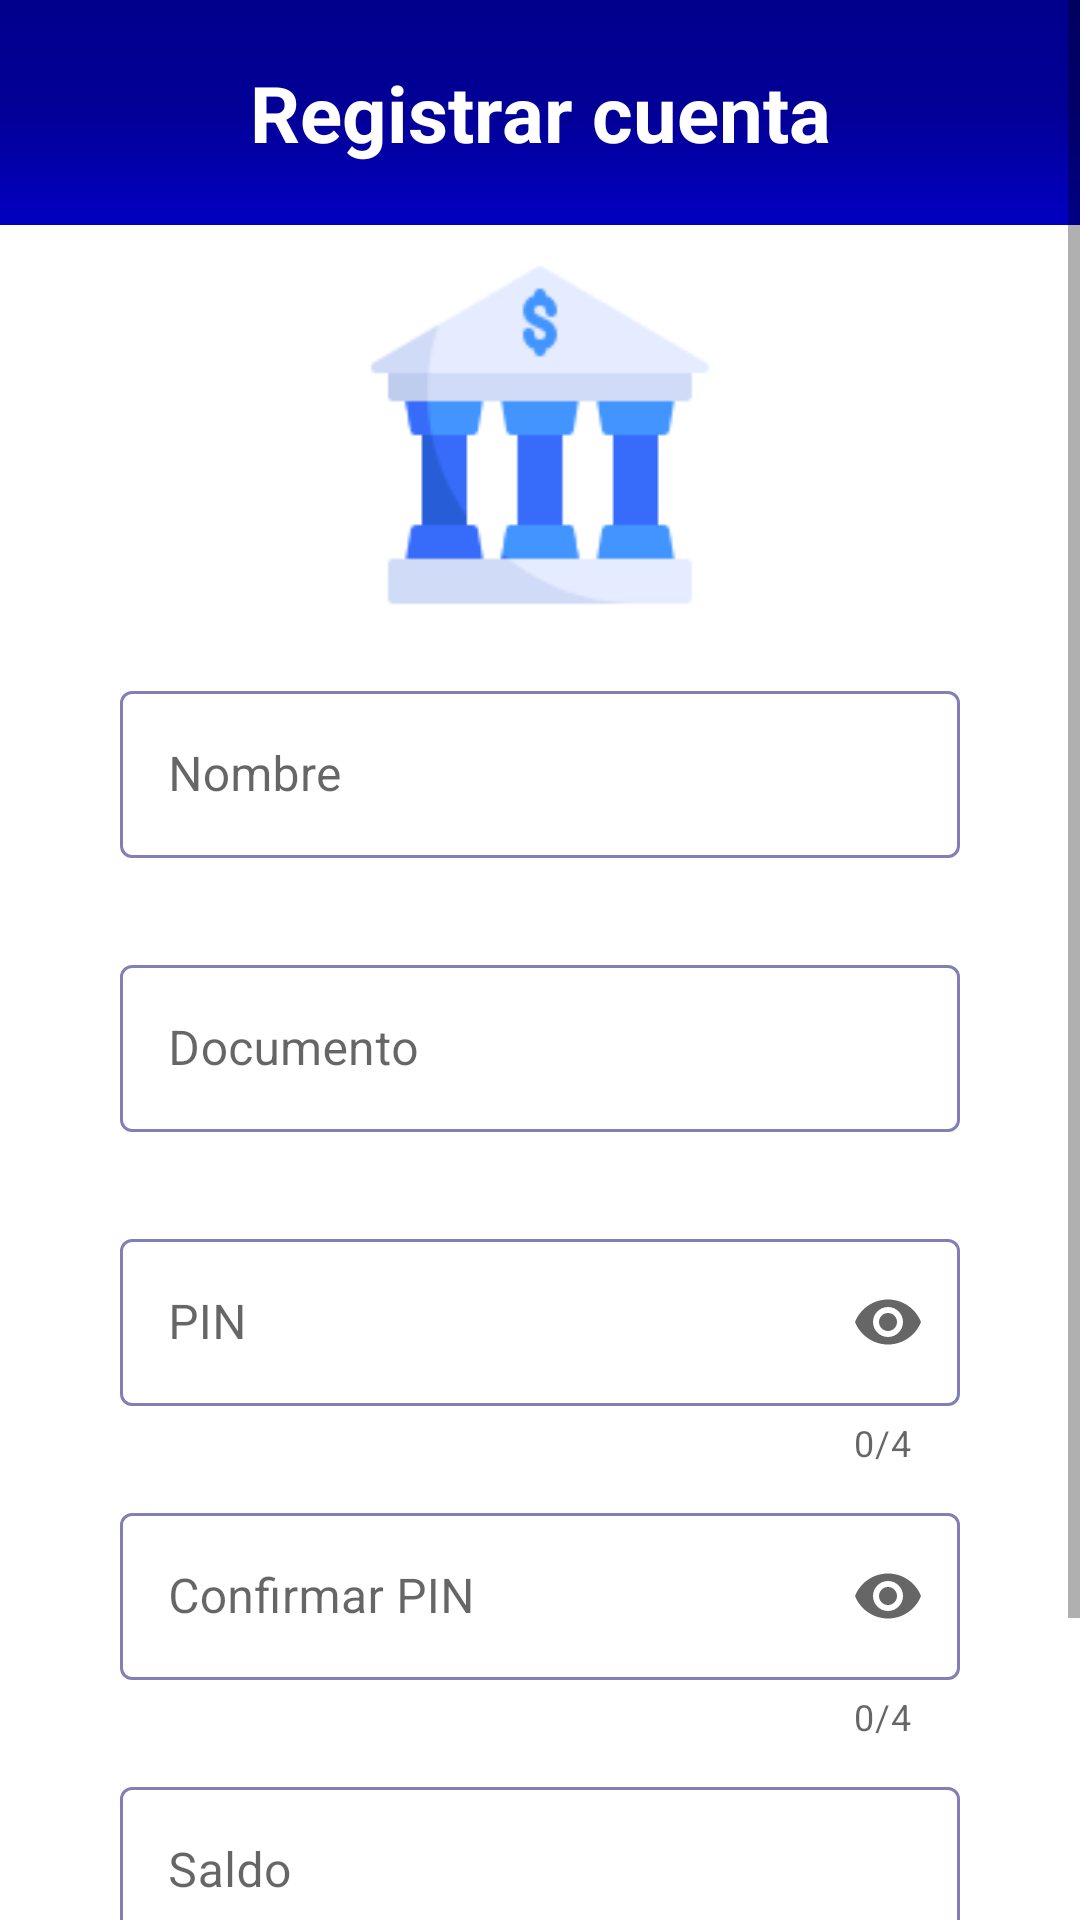

Named icons in this screenshot (1080x1920) and their bounding boxes, [x1, y1, x2, y2]:
banco: [371, 270, 705, 604]
